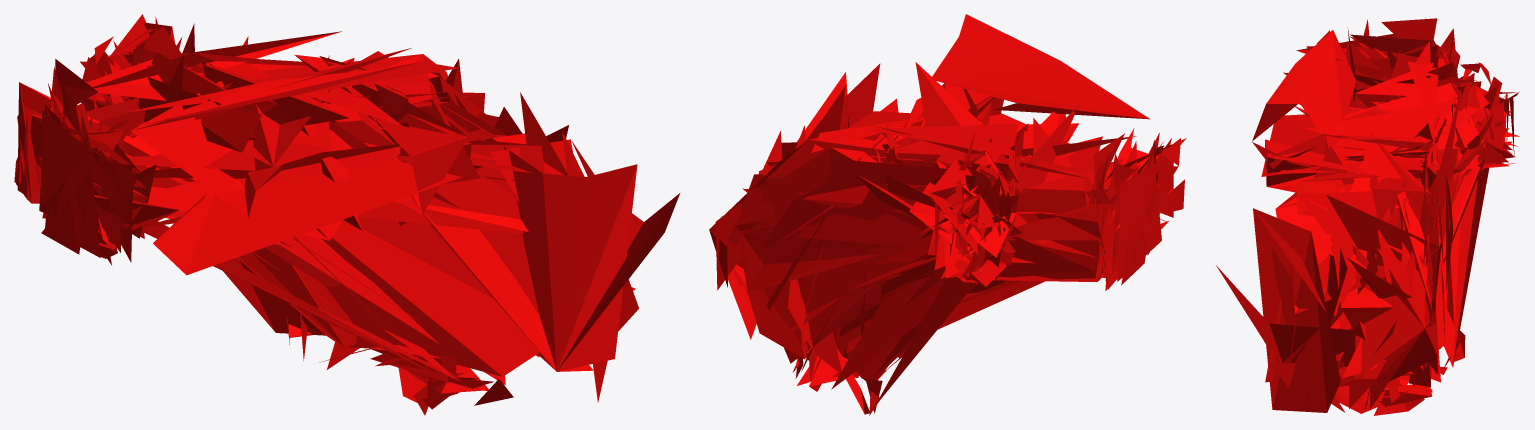
3 renders of one model, left to right at view 1: azimuth 30°, elevation 25°; view 2: azimuth 150°, elevation 25°; view 3: azimuth 270°, elevation 25°, orthographic. The views are drawn at different scales.
Visible parts, largest first — view 1: Renderer Node; view 2: Renderer Node; view 3: Renderer Node.
Part boxes in pixels (bbox=[...]): Renderer Node: bbox=[14, 14, 679, 415]; Renderer Node: bbox=[709, 14, 1186, 415]; Renderer Node: bbox=[1216, 17, 1519, 415].
Size of the model in its own units: 0.7449 by 0.5491 by 0.5392.
1 material, 1 textured.
